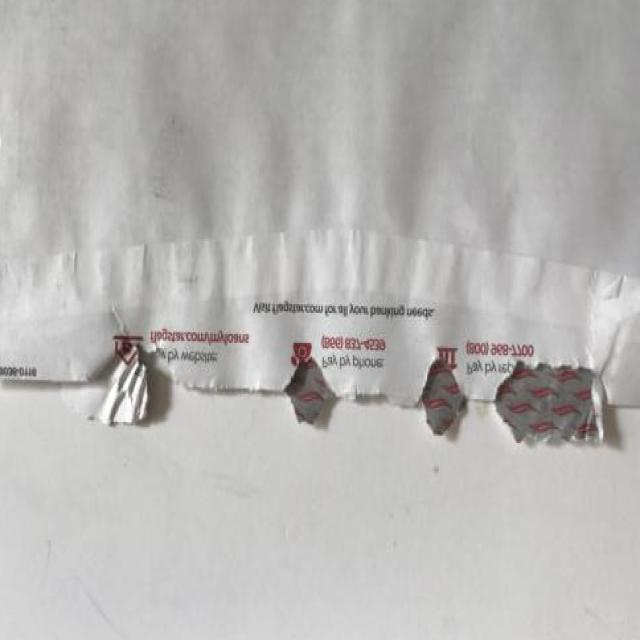kertas: (0, 0, 640, 449)
